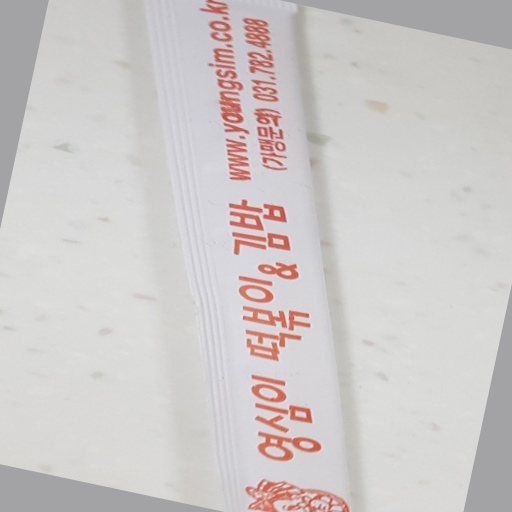Paper_2: (139, 1, 367, 512)
